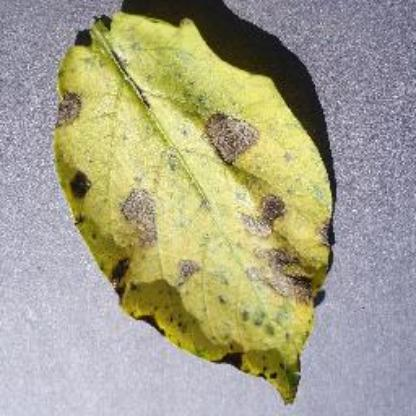Early-Blight: (52, 10, 350, 404)
